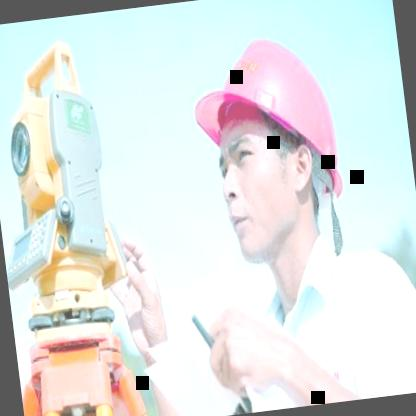helmet: (179, 0, 369, 300)
